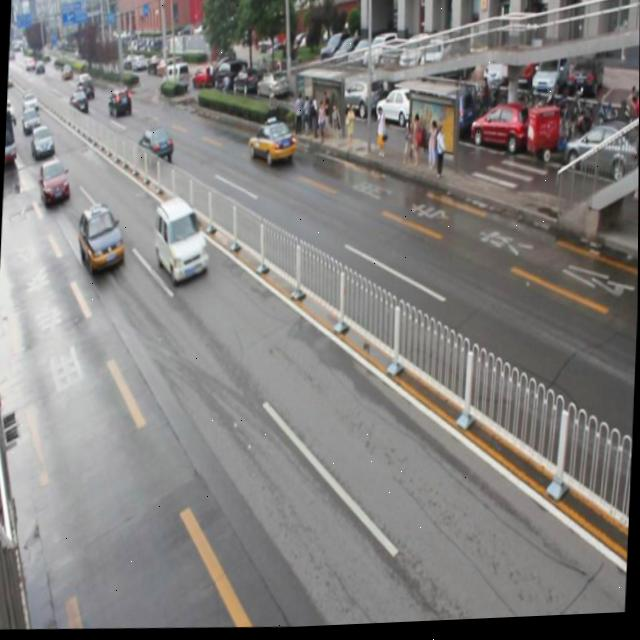car: (153, 196, 212, 286), (77, 202, 127, 274), (247, 120, 297, 167), (37, 157, 72, 205), (137, 126, 175, 165)
